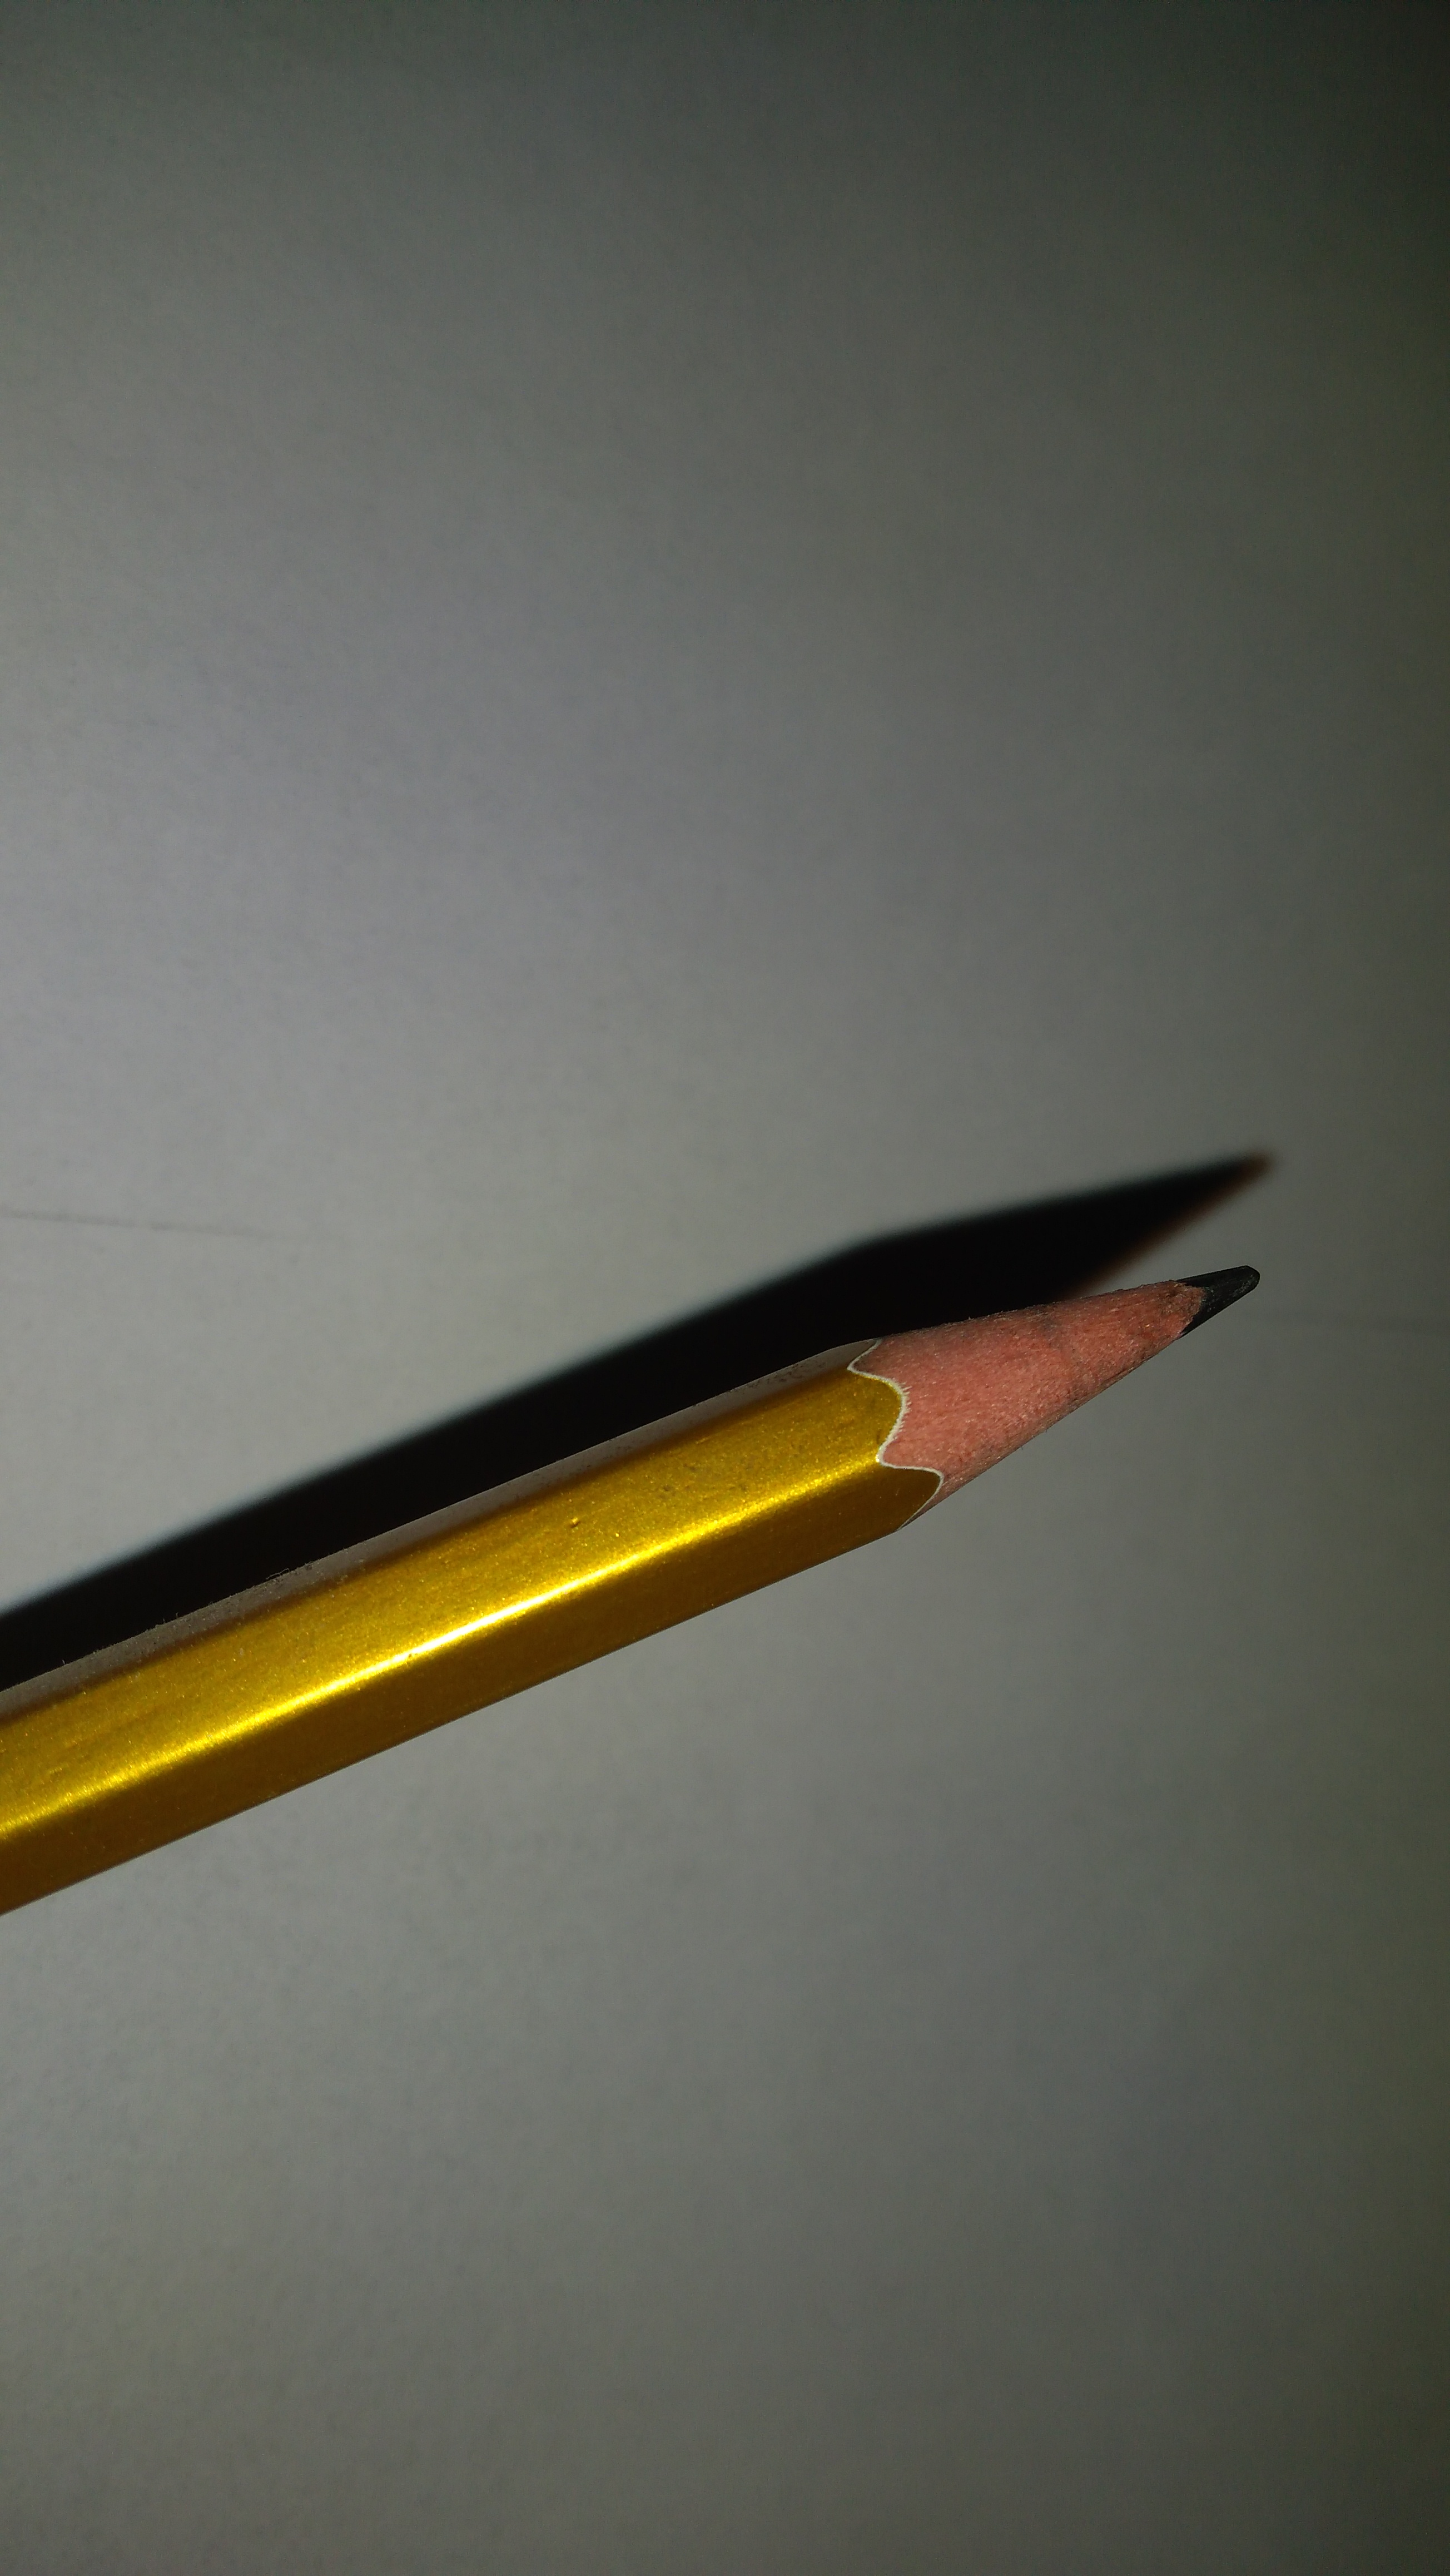pen_tip: (824, 1143, 1277, 1596)
